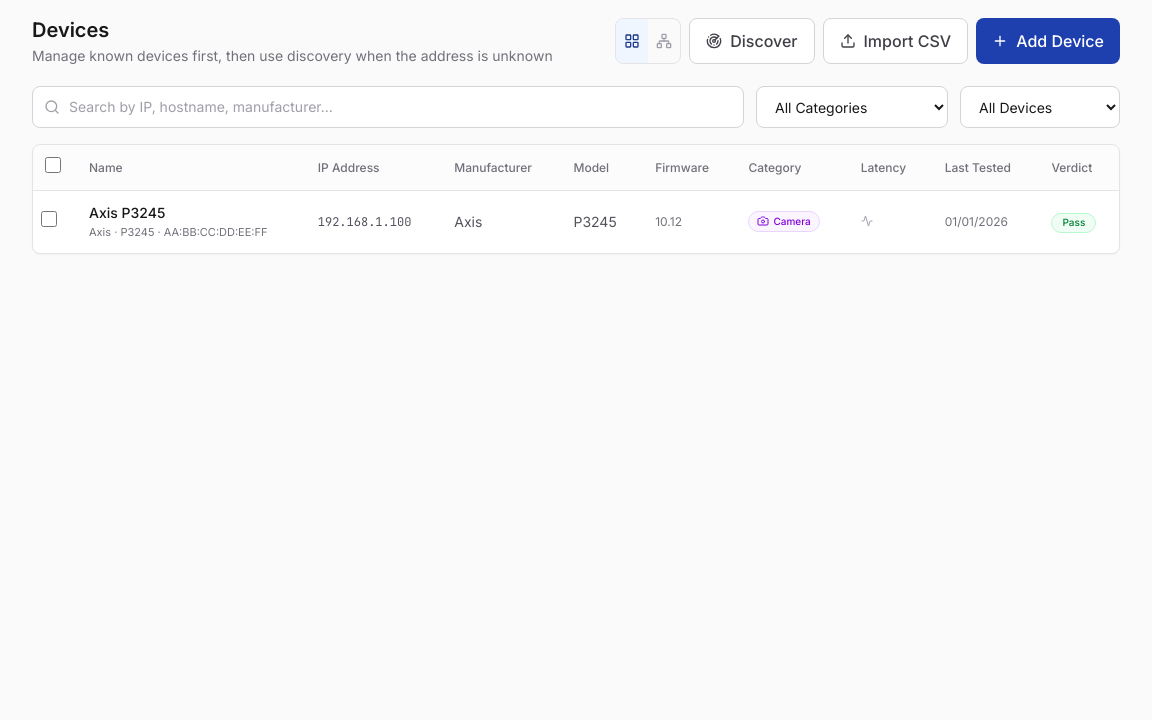
Scenario: DevicesPage › shows bulk delete controls for admins
Expected: the link "Axis P3245" is shown, [89,204,165,221]
Step 1. Click the checkbox named "Select Axis P3245" → (49, 219), box [41,211,57,227]
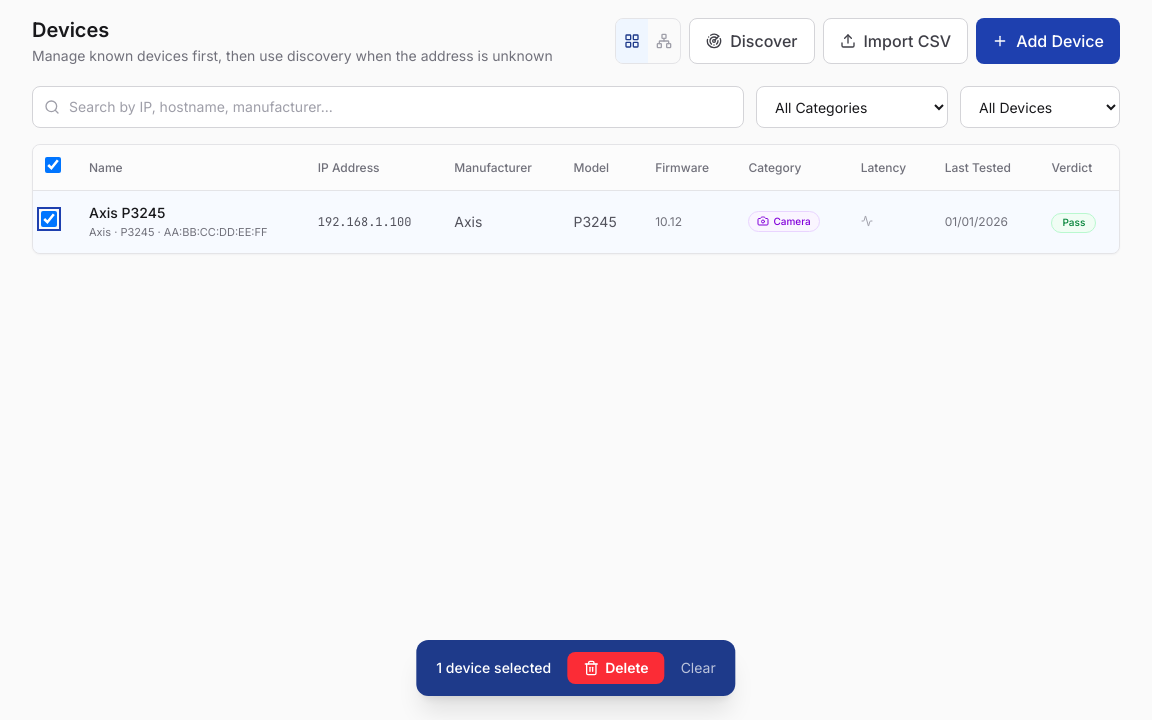
Now the button "Delete" is shown, box [567,652,665,684]
